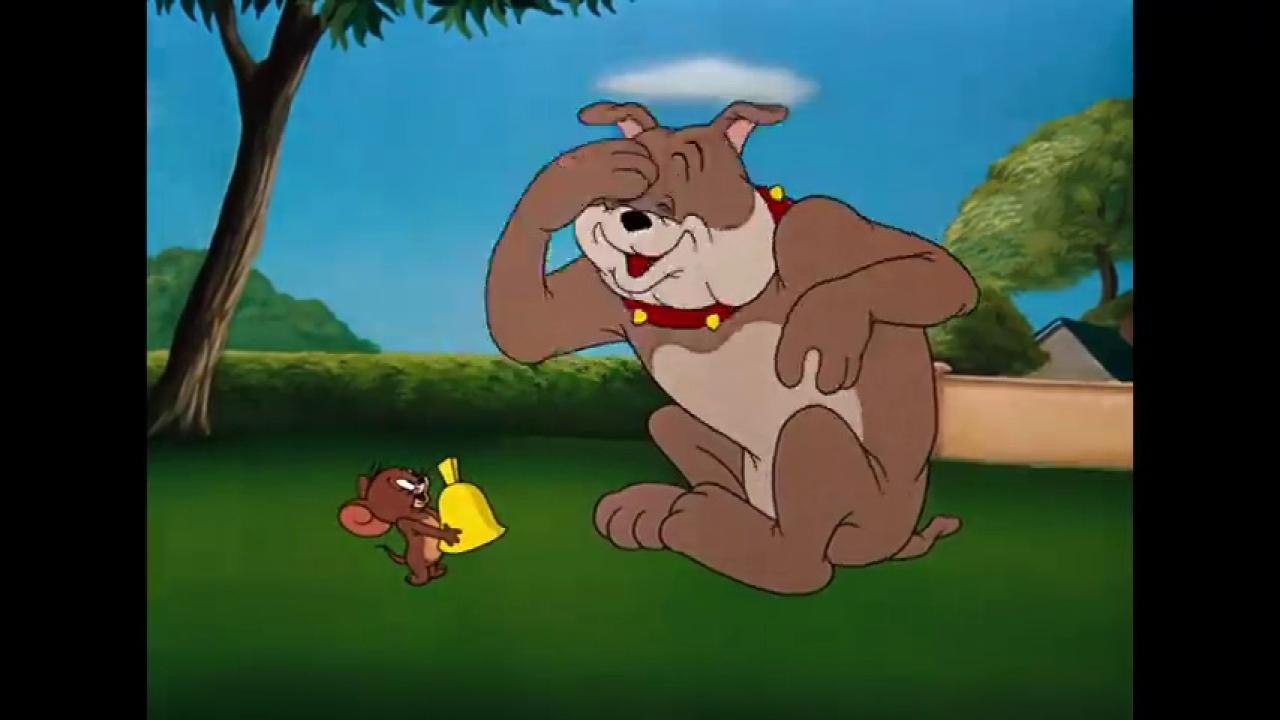Jerry: (336, 455, 467, 592)
